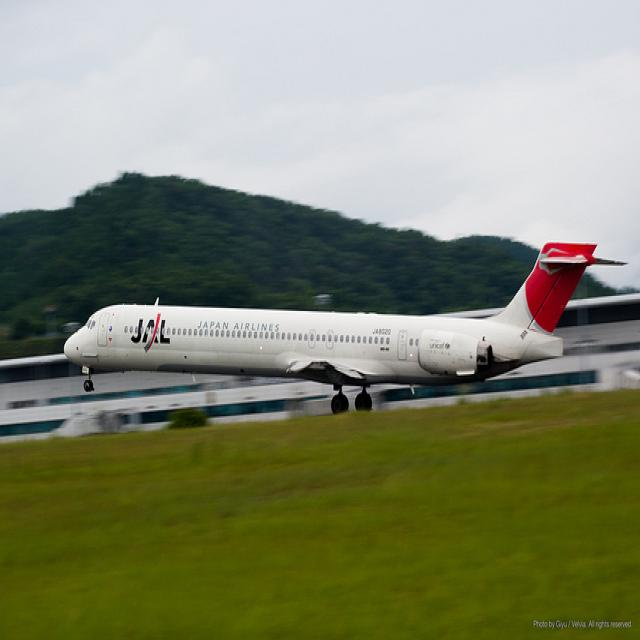airplane: (62, 239, 630, 420)
